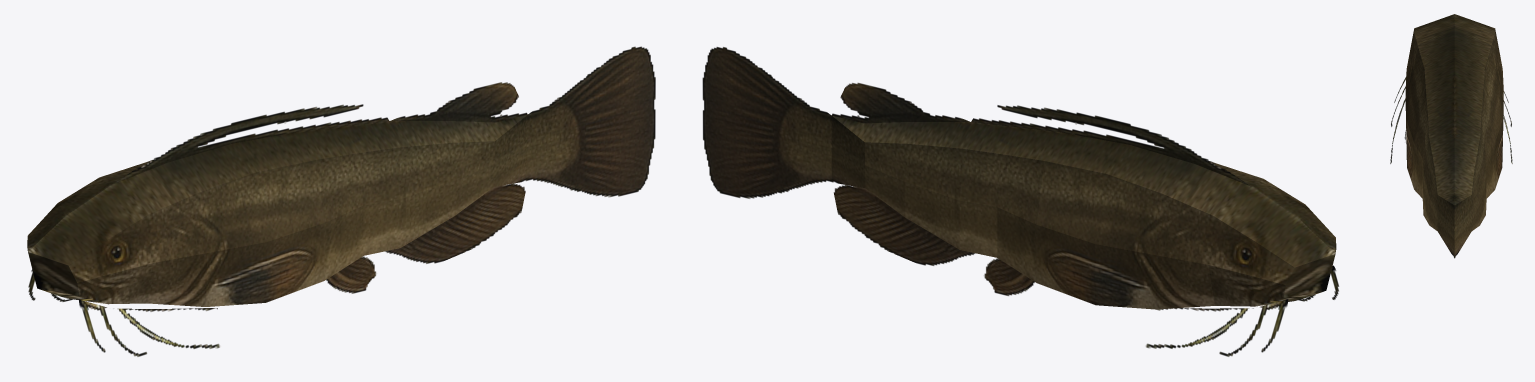
Rendered from Catfish.glb.
3 views of the same model, side by side, from view 1: azimuth 30°, elevation 25°; view 2: azimuth 150°, elevation 25°; view 3: azimuth 270°, elevation 25° (orthographic). The views are drawn at different scales.
Parts seen in each view (by area): view 1: Catfish; view 2: Catfish; view 3: Catfish.
Boxes of the visible parts, x1=… form: Catfish: x1=27, y1=46, x2=655, y2=356; Catfish: x1=702, y1=47, x2=1338, y2=356; Catfish: x1=1390, y1=14, x2=1512, y2=258.
Size of the model in its own units: 1.83 by 0.5761 by 0.4241.
1 material, 1 textured.
